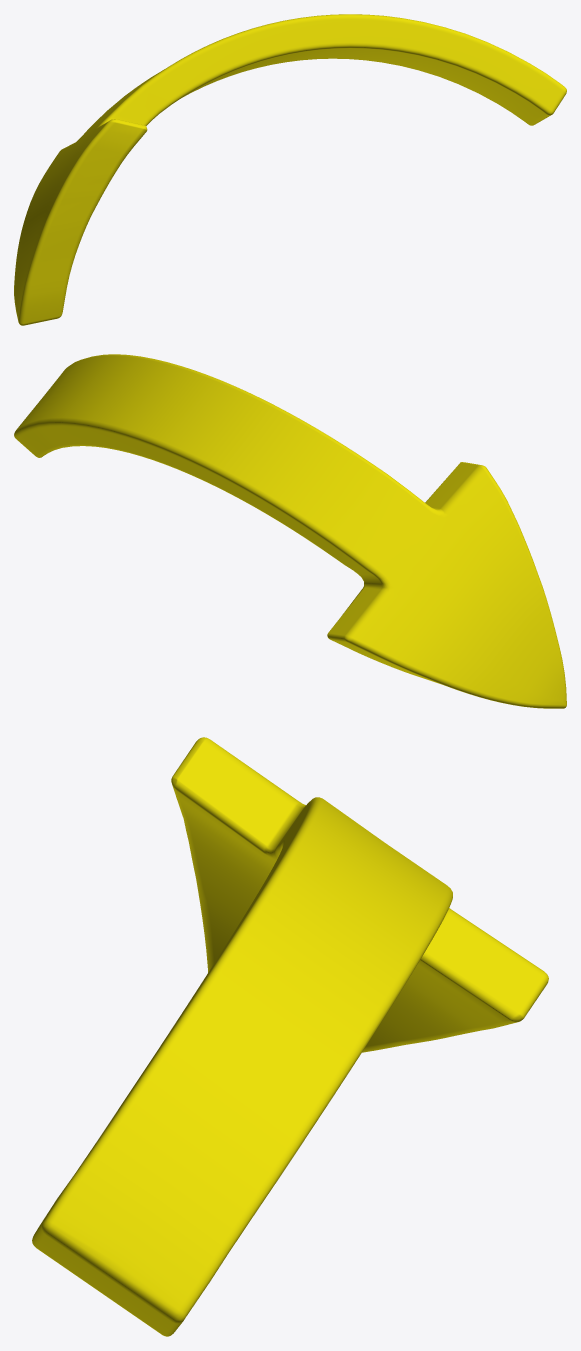
The model's file is Arrow.glb.
3 renders of one model, top to bottom at view 1: azimuth 30°, elevation 25°; view 2: azimuth 150°, elevation 25°; view 3: azimuth 270°, elevation 25°, orthographic. The views are drawn at different scales.
Visible parts, largest first — view 1: node_id5; view 2: node_id5; view 3: node_id5.
Boxes of the visible parts, x1,y1,x2,y2 form: node_id5: (14, 14, 566, 325); node_id5: (14, 354, 566, 708); node_id5: (32, 737, 548, 1336).
Bounding box in the file's own units: 0.5667 × 0.2413 × 0.2468.
Materials: 1 (1 with a texture image).
